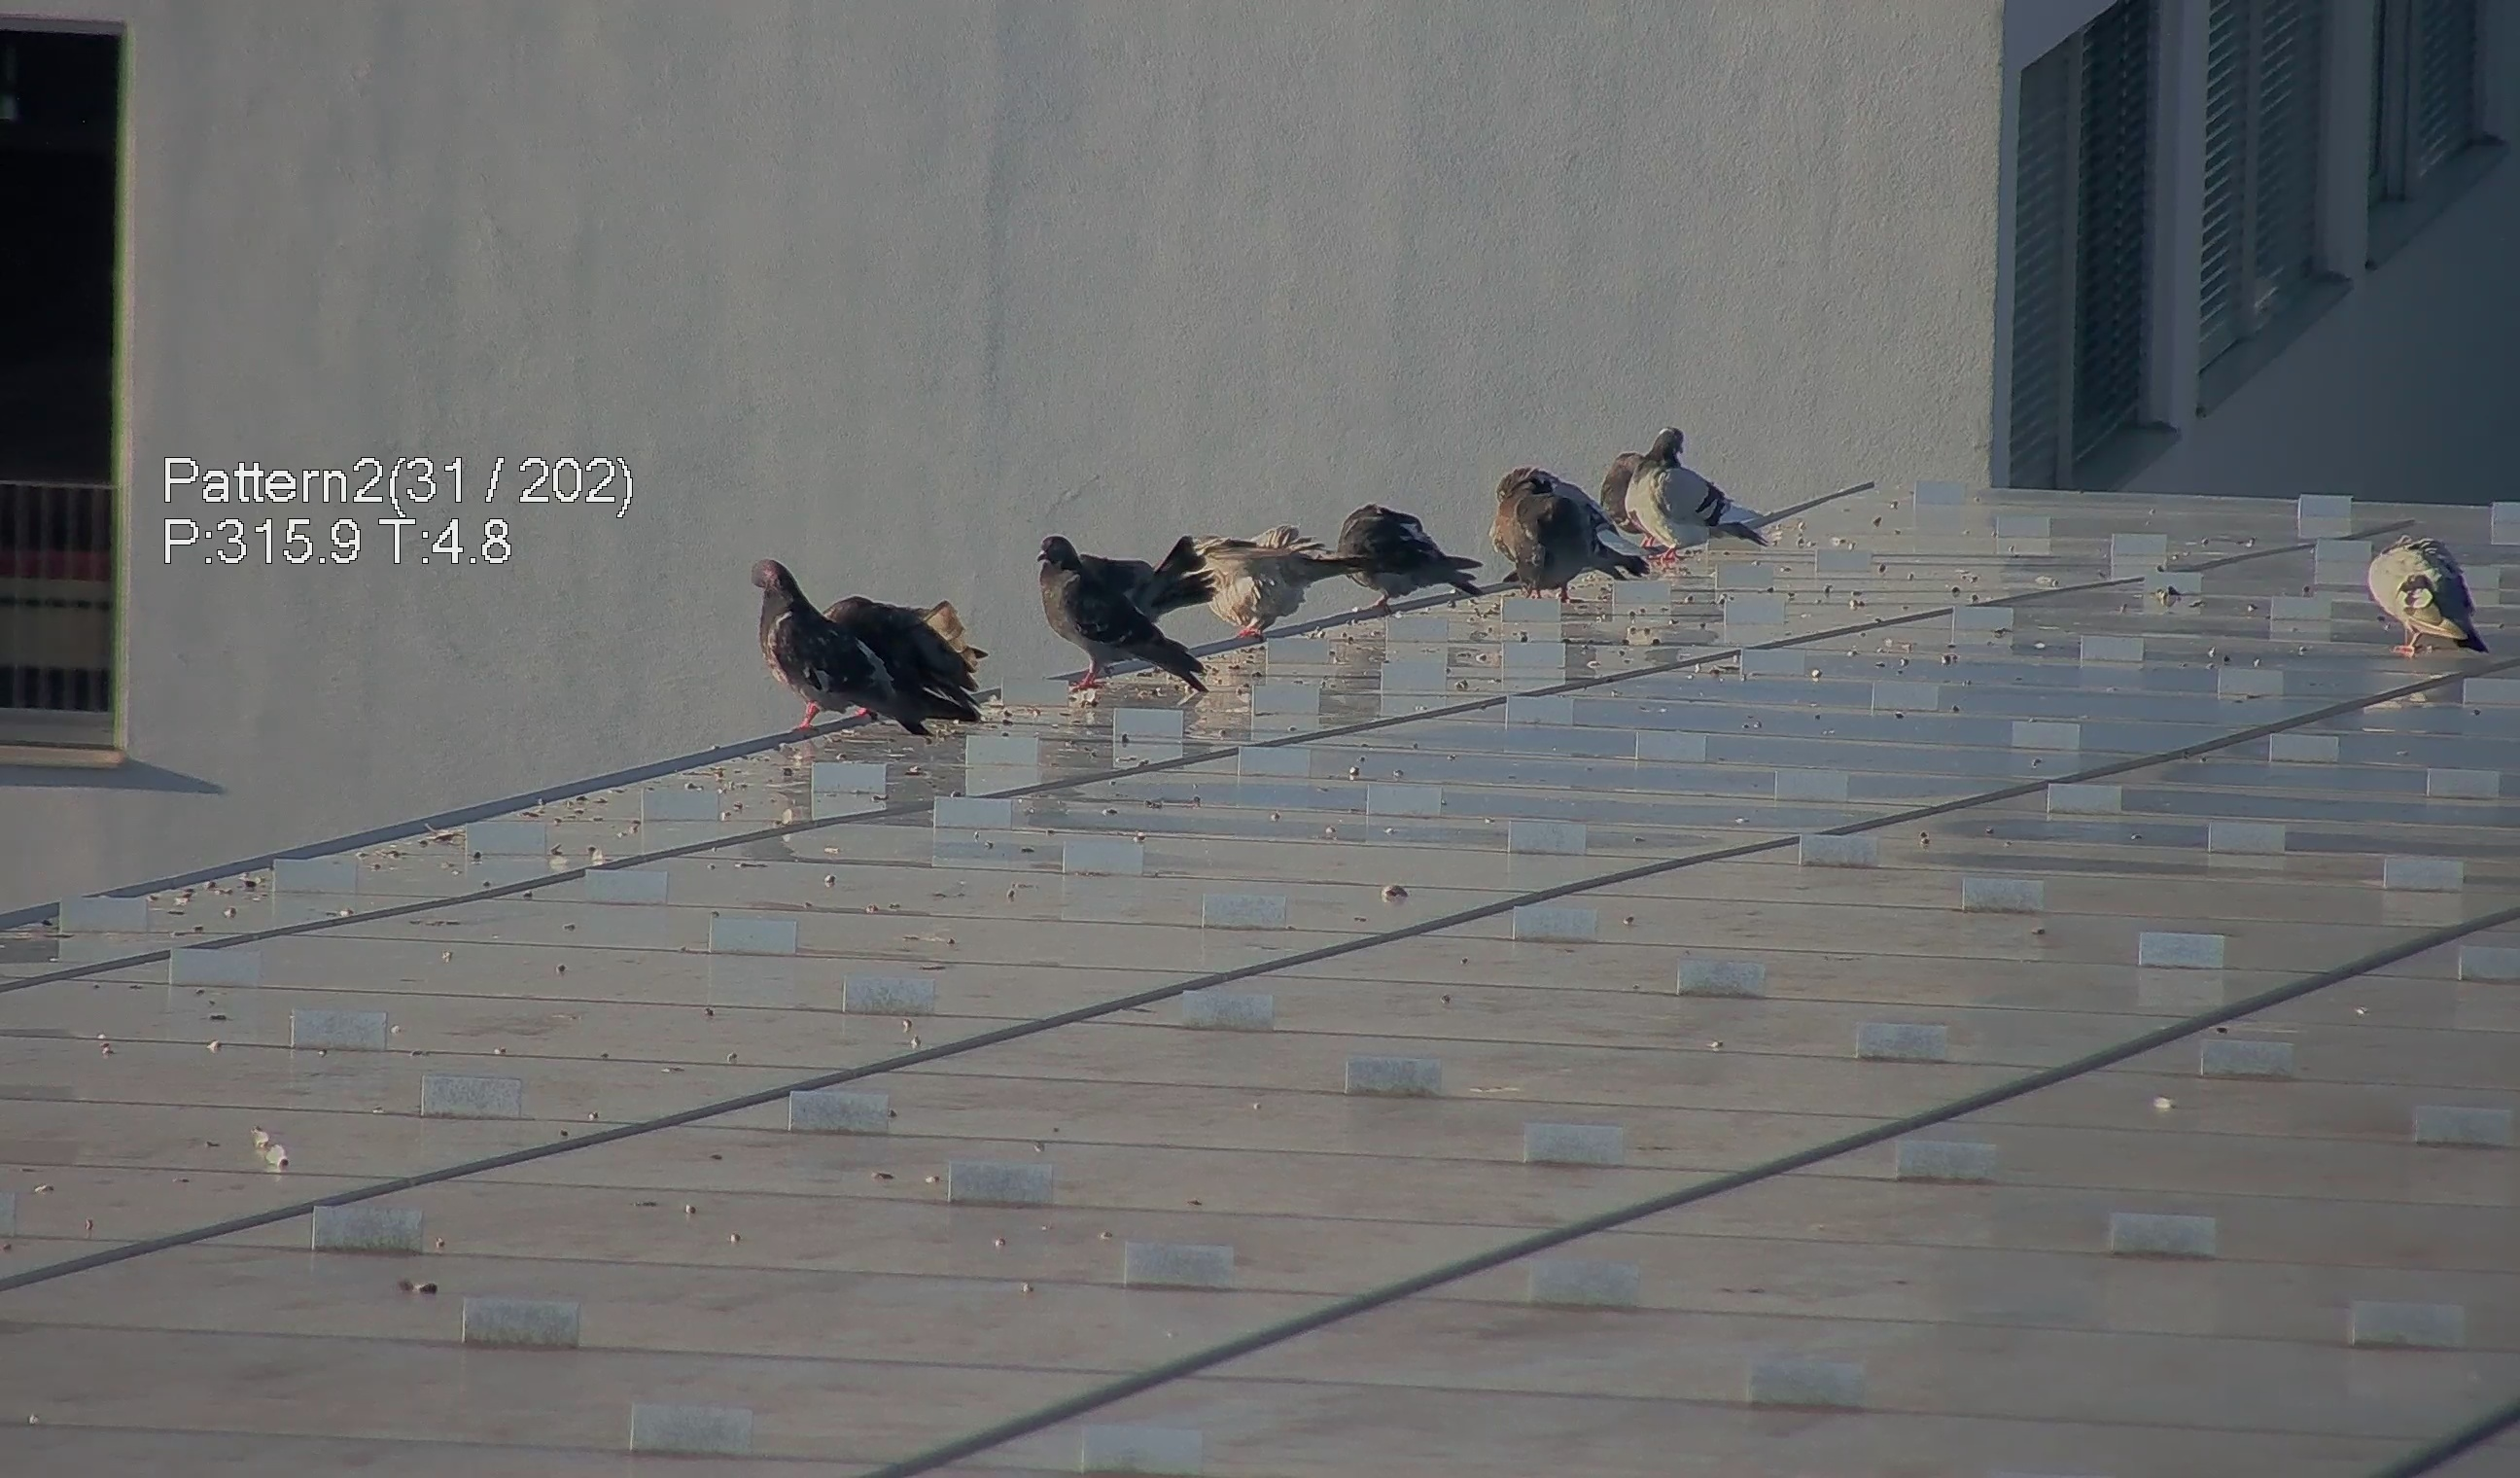Pigeon: (737, 547, 969, 739), (1025, 517, 1219, 700), (1606, 419, 1799, 567), (1176, 517, 1375, 648), (1479, 457, 1664, 595), (812, 584, 990, 718), (2369, 521, 2504, 670), (1326, 494, 1488, 600)
